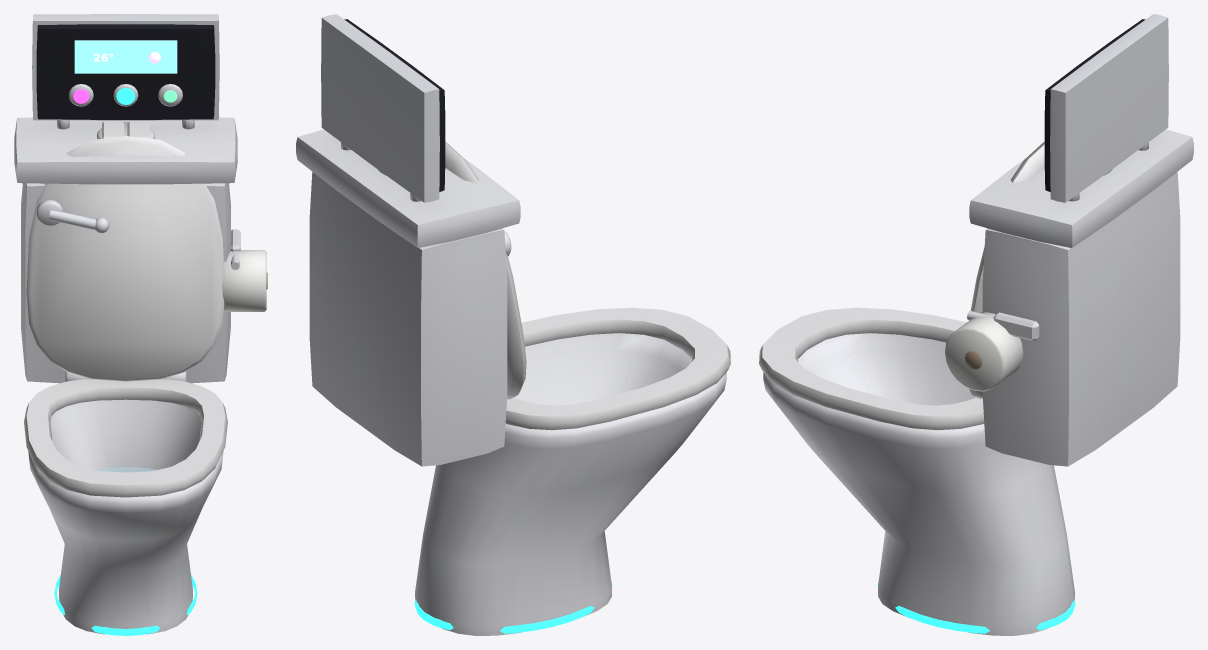
Rendered from toilet.glb.
3 renders of one model, left to right at view 1: azimuth 30°, elevation 25°; view 2: azimuth 150°, elevation 25°; view 3: azimuth 270°, elevation 25°, orthographic. The views are drawn at different scales.
Parts seen in each view (by area): view 1: body, display; view 2: body; view 3: body.
Part boxes in pixels (x1,y1,x2,y2): body: [14, 14, 267, 635]; display: [74, 40, 177, 73]; body: [296, 14, 730, 635]; body: [759, 14, 1193, 635].
Bounding box in the file's own units: 1.58 × 2.76 × 1.88.
9 materials, 1 textured.
